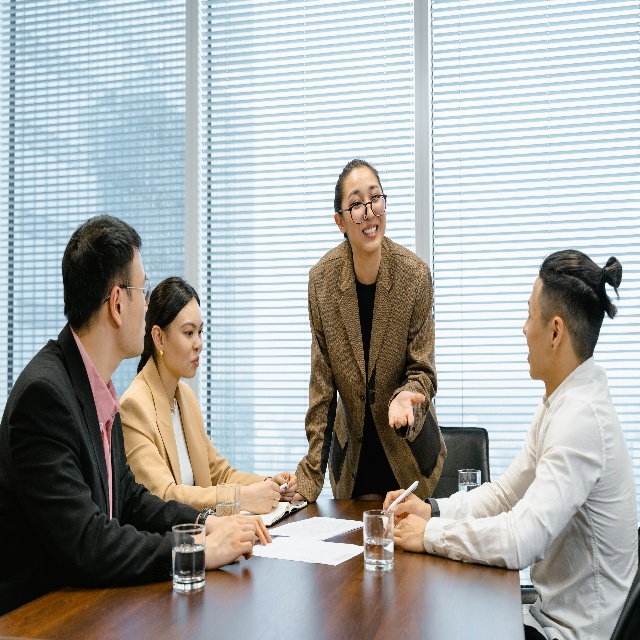Gafas: (338, 193, 387, 224), (104, 279, 152, 307)
Sin_guantes: (205, 515, 256, 571), (207, 513, 273, 546), (382, 488, 430, 521), (388, 390, 425, 429), (394, 513, 427, 554), (245, 479, 281, 515), (271, 471, 298, 503)
